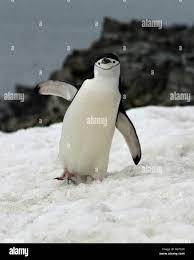chinstrap: (32, 43, 151, 203)
